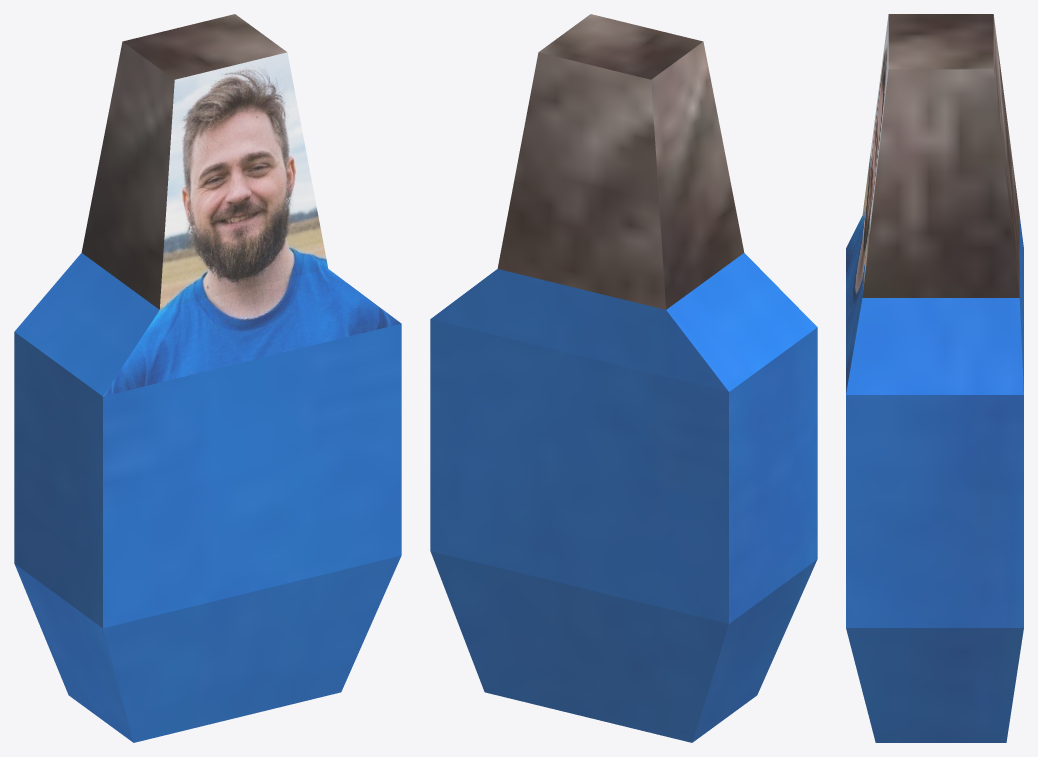
Rendered from player.glb.
The picture shows the model from 3 angles, left to right: view 1: azimuth 30°, elevation 25°; view 2: azimuth 150°, elevation 25°; view 3: azimuth 270°, elevation 25°; orthographic projection.
Visible parts, largest first — view 1: Player; view 2: Player; view 3: Player.
Boxes of the visible parts, x1=… form: Player: x1=14, y1=14, x2=401, y2=742; Player: x1=430, y1=14, x2=817, y2=742; Player: x1=846, y1=14, x2=1023, y2=742.
Size of what is drawn, in the model's own units: 0.6851 by 1.42 by 0.3516.
1 material, 1 textured.
